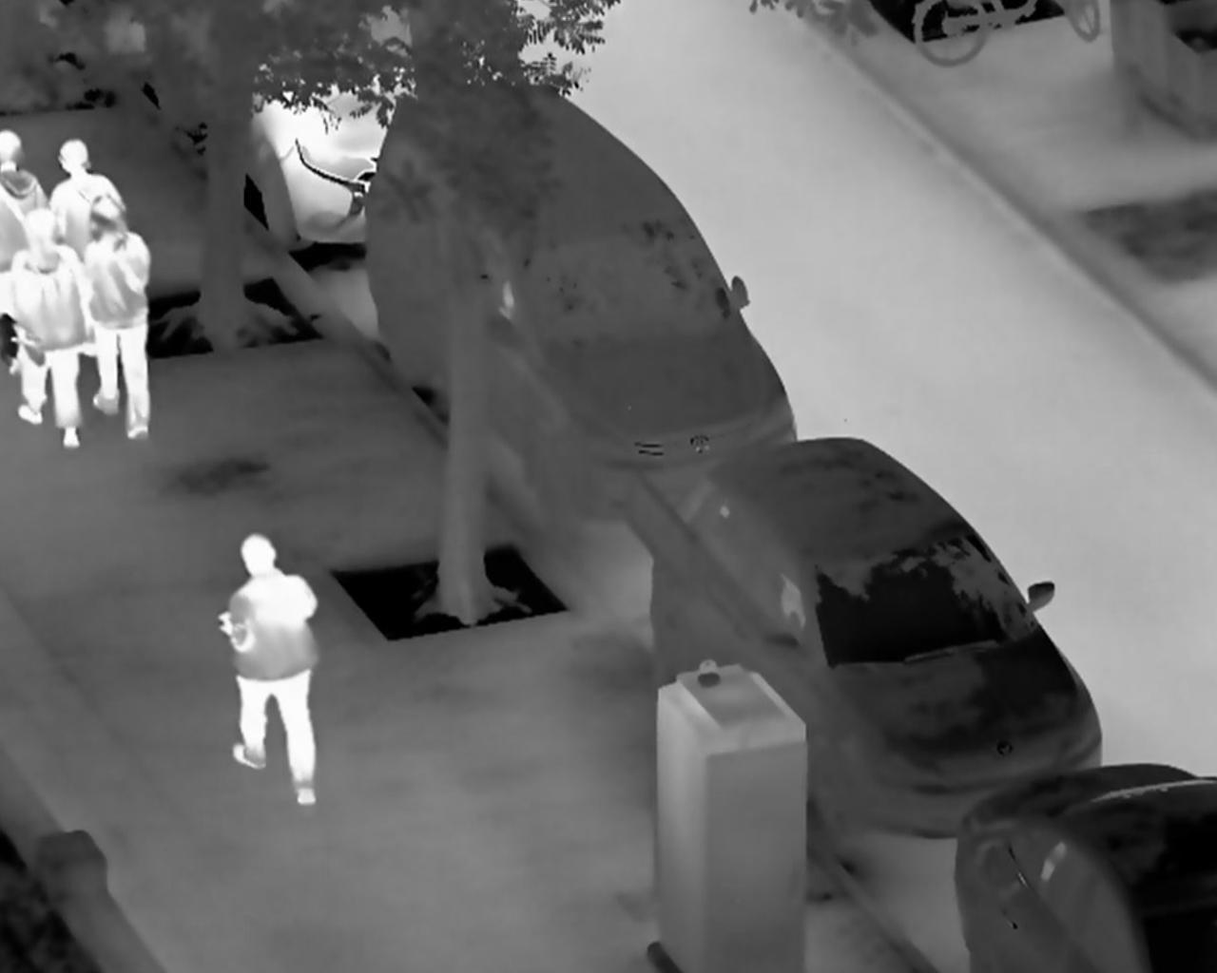person: (217, 531, 319, 808), (11, 205, 95, 450), (78, 194, 154, 444), (43, 138, 127, 361)
